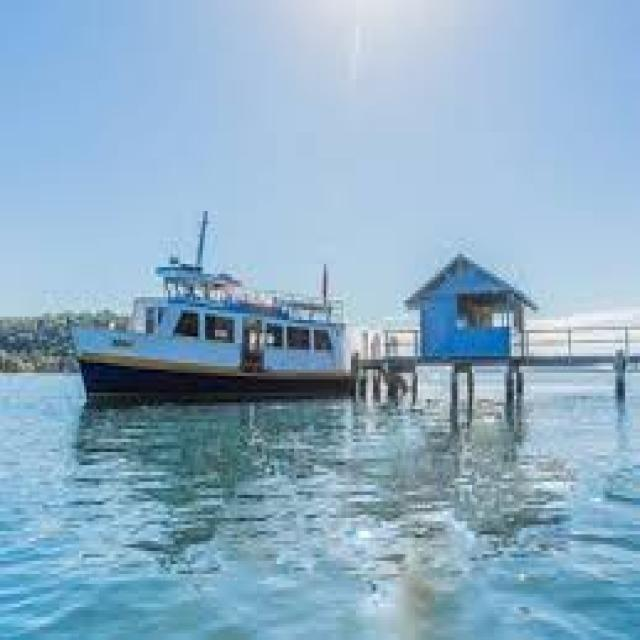houseboat: (41, 220, 368, 400)
